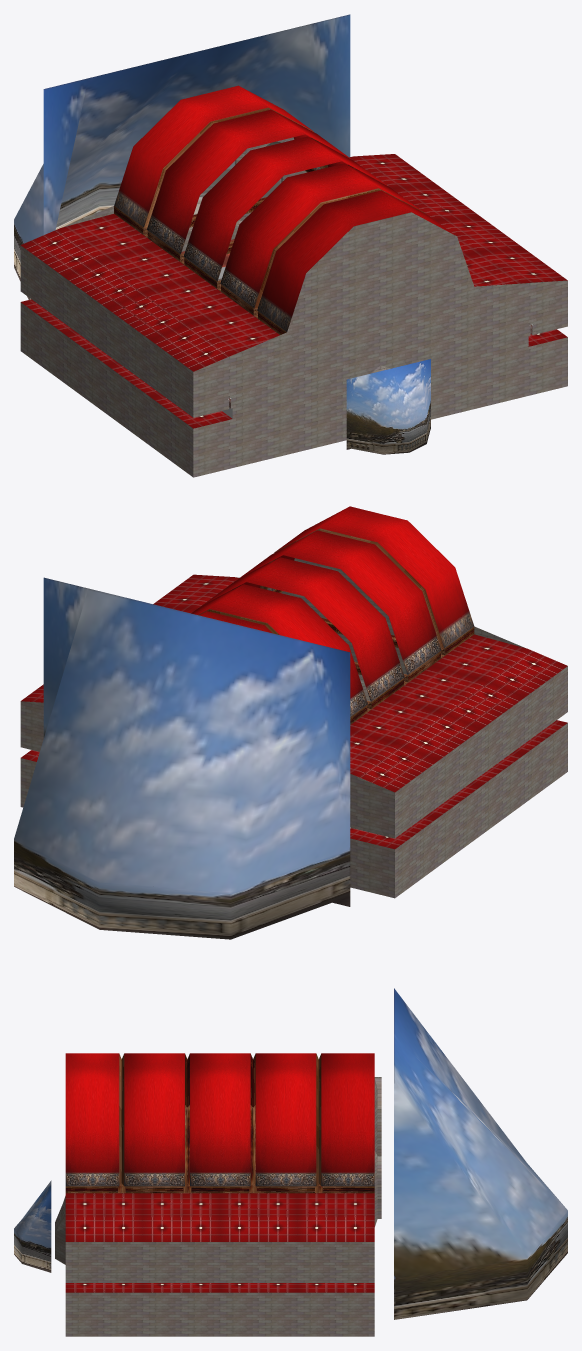
The model's file is ENVI_Gallery.obj.
3 renders of one model, top to bottom at view 1: azimuth 30°, elevation 25°; view 2: azimuth 150°, elevation 25°; view 3: azimuth 270°, elevation 25°, orthographic. The views are drawn at different scales.
Parts seen in each view (by area): view 1: Gallery; view 2: Gallery; view 3: Gallery.
Boxes of the visible parts, x1,y1,x2,y2 form: Gallery: (14, 14, 567, 477); Gallery: (14, 506, 567, 939); Gallery: (14, 988, 567, 1336).
Size of what is drawn, in the model's own units: 2400 by 1560 by 3441.
22 materials, 13 textured.
